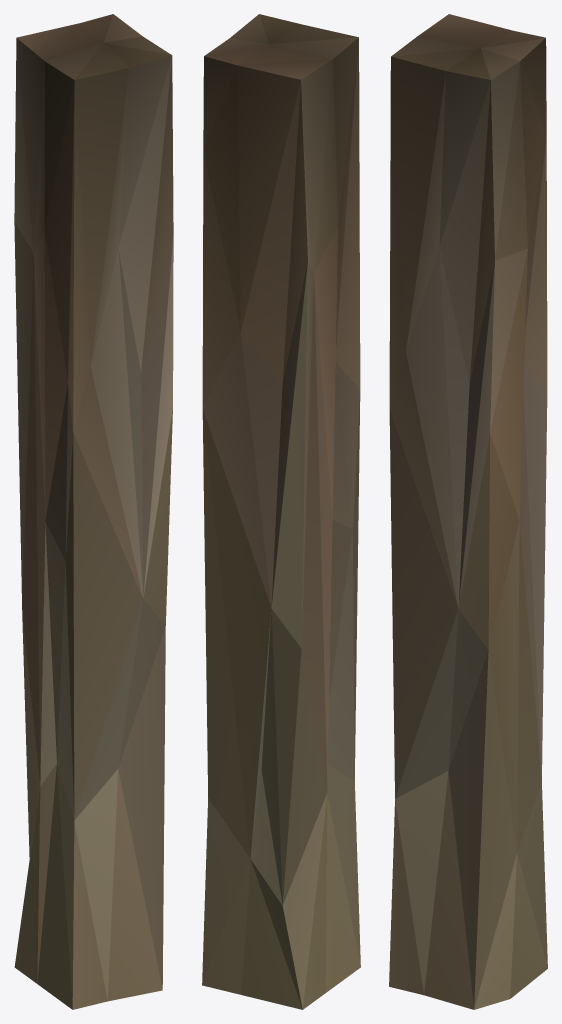
The model's file is Wall_UG-PostA.fbx.
The picture shows the model from 3 angles, left to right: view 1: azimuth 30°, elevation 25°; view 2: azimuth 150°, elevation 25°; view 3: azimuth 330°, elevation 25°; orthographic projection.
Visible parts, largest first — view 1: Wall_UG-PostA; view 2: Wall_UG-PostA; view 3: Wall_UG-PostA.
Boxes of the visible parts, x1,y1,x2,y2 form: Wall_UG-PostA: (14, 14, 173, 1009); Wall_UG-PostA: (202, 14, 360, 1009); Wall_UG-PostA: (389, 14, 547, 1009).
Size of the model in its own units: 48.52 by 406 by 50.
